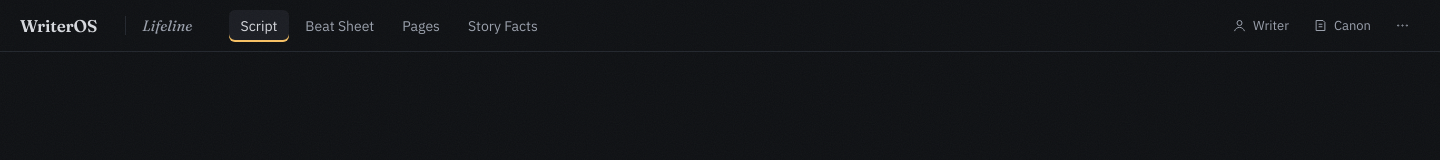
Scenario: TopBar › cancels project title edit on Escape
Click the button with aria-label "Project title: Lifeline".
click(167, 26)  # box x1=142 y1=16 x2=193 y2=35
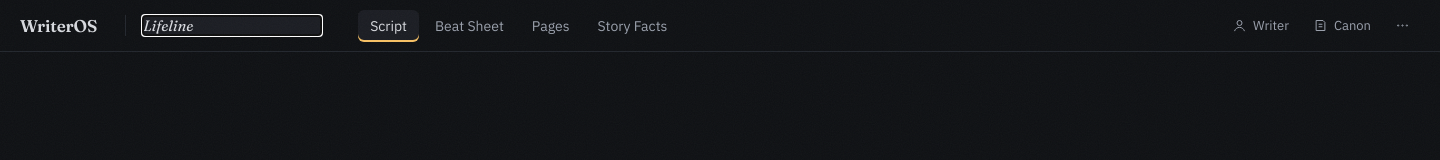
Replace the text in the field named "Project title" with "Other Title" at (232, 26), box x1=142 y1=15 x2=322 y2=36
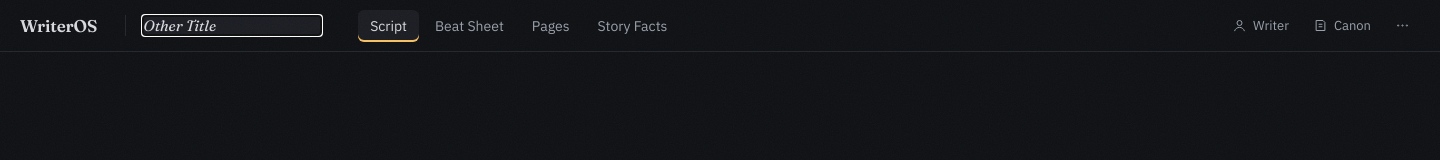
Press Escape in the field named "Project title", box x1=142 y1=15 x2=322 y2=36
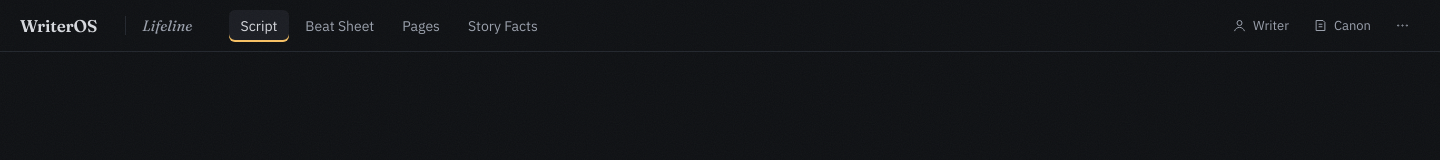
Expected: the button "Lifeline" is shown, x1=142 y1=16 x2=193 y2=35
